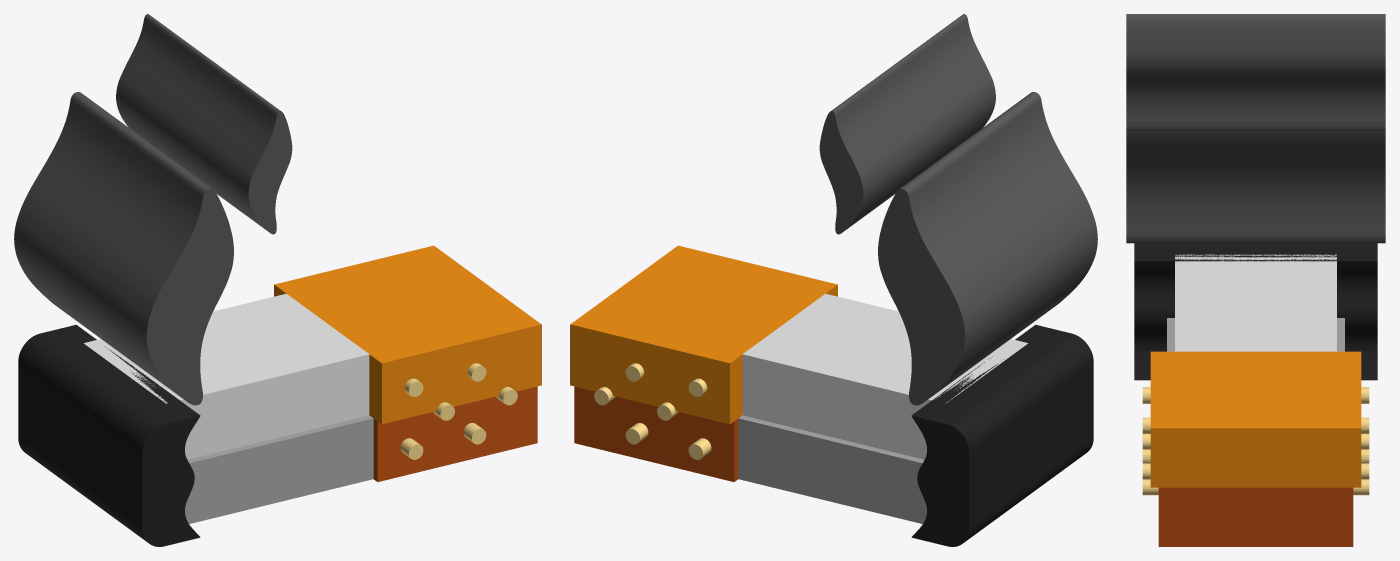
3 views of the same model, side by side, from view 1: azimuth 30°, elevation 25°; view 2: azimuth 150°, elevation 25°; view 3: azimuth 270°, elevation 25° (orthographic). The views are drawn at different scales.
Parts seen in each view (by area): view 1: U+1F6AC_layer06_obj00, U+1F6AC_layer03_obj00, U+1F6AC_layer05_obj00, U+1F6AC_layer00_obj00, U+1F6AC_layer01_obj00, U+1F6AC_layer02_obj00, U+1F6AC_layer04_obj00; view 2: U+1F6AC_layer06_obj00, U+1F6AC_layer03_obj00, U+1F6AC_layer05_obj00, U+1F6AC_layer00_obj00, U+1F6AC_layer01_obj00, U+1F6AC_layer02_obj00, U+1F6AC_layer04_obj00; view 3: U+1F6AC_layer06_obj00, U+1F6AC_layer03_obj00, U+1F6AC_layer00_obj00, U+1F6AC_layer05_obj00, U+1F6AC_layer02_obj00, U+1F6AC_layer04_obj00, U+1F6AC_layer01_obj00.
Boxes of the visible parts, <box> form: U+1F6AC_layer06_obj00: <box>14,14,292,405</box>; U+1F6AC_layer03_obj00: <box>274,245,541,424</box>; U+1F6AC_layer05_obj00: <box>18,324,200,546</box>; U+1F6AC_layer00_obj00: <box>83,293,369,459</box>; U+1F6AC_layer01_obj00: <box>185,415,373,523</box>; U+1F6AC_layer02_obj00: <box>373,386,537,481</box>; U+1F6AC_layer04_obj00: <box>400,363,517,459</box>; U+1F6AC_layer06_obj00: <box>819,14,1097,405</box>; U+1F6AC_layer03_obj00: <box>570,245,837,424</box>; U+1F6AC_layer05_obj00: <box>911,324,1093,546</box>; U+1F6AC_layer00_obj00: <box>742,293,1028,459</box>; U+1F6AC_layer01_obj00: <box>738,415,926,523</box>; U+1F6AC_layer02_obj00: <box>574,386,738,481</box>; U+1F6AC_layer04_obj00: <box>594,363,711,459</box>; U+1F6AC_layer06_obj00: <box>1126,14,1385,243</box>; U+1F6AC_layer03_obj00: <box>1150,351,1361,487</box>; U+1F6AC_layer00_obj00: <box>1175,254,1336,351</box>; U+1F6AC_layer05_obj00: <box>1134,243,1377,380</box>; U+1F6AC_layer02_obj00: <box>1158,487,1353,546</box>; U+1F6AC_layer04_obj00: <box>1142,387,1369,495</box>; U+1F6AC_layer01_obj00: <box>1167,318,1344,351</box>.
Size of the model in its own units: 0.5678 by 0.5474 by 0.32.
